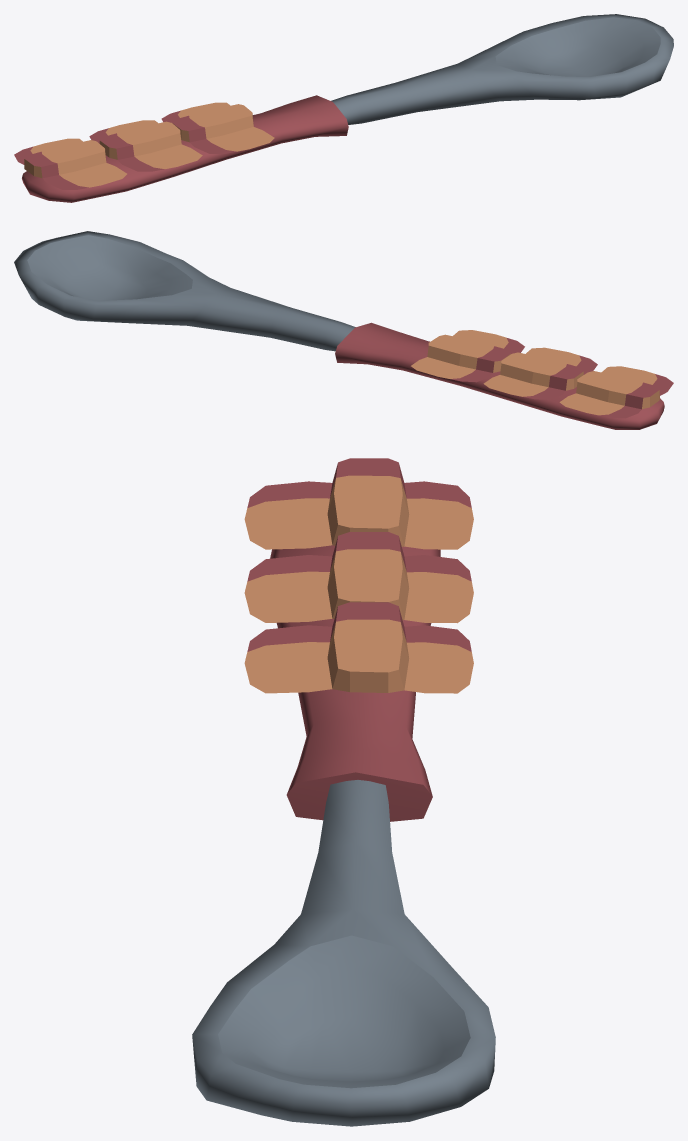
Rendered from SM_Spoon.fbx.
3 renders of one model, top to bottom at view 1: azimuth 30°, elevation 25°; view 2: azimuth 150°, elevation 25°; view 3: azimuth 270°, elevation 25°, orthographic. The views are drawn at different scales.
Visible parts, largest first — view 1: Plane.030, Plane.031, Plane.013, Plane.021, Plane.022, Plane.023, Plane.032, Plane.033; view 2: Plane.030, Plane.031, Plane.013, Plane.021, Plane.022, Plane.023, Plane.032, Plane.033; view 3: Plane.030, Plane.031, Plane.022, Plane.013, Plane.021, Plane.023, Plane.033, Plane.032.
Part boxes in pixels (x1=…): Plane.030: x1=331, y1=14, x2=673, y2=124; Plane.031: x1=22, y1=95, x2=348, y2=202; Plane.013: x1=24, y1=138, x2=126, y2=187; Plane.021: x1=99, y1=120, x2=202, y2=168; Plane.022: x1=173, y1=102, x2=274, y2=151; Plane.023: x1=14, y1=146, x2=88, y2=189; Plane.032: x1=89, y1=128, x2=164, y2=171; Plane.033: x1=161, y1=110, x2=235, y2=153; Plane.030: x1=14, y1=231, x2=355, y2=351; Plane.031: x1=335, y1=322, x2=664, y2=429; Plane.013: x1=559, y1=366, x2=659, y2=415; Plane.021: x1=483, y1=347, x2=583, y2=396; Plane.022: x1=411, y1=330, x2=510, y2=378; Plane.023: x1=599, y1=374, x2=673, y2=418; Plane.032: x1=523, y1=355, x2=597, y2=399; Plane.033: x1=450, y1=338, x2=524, y2=382; Plane.030: x1=192, y1=780, x2=495, y2=1126; Plane.031: x1=270, y1=545, x2=440, y2=821; Plane.022: x1=244, y1=619, x2=473, y2=693; Plane.013: x1=244, y1=475, x2=473, y2=549; Plane.021: x1=244, y1=549, x2=473, y2=623; Plane.023: x1=247, y1=458, x2=471, y2=507; Plane.033: x1=247, y1=602, x2=471, y2=651; Plane.032: x1=247, y1=532, x2=471, y2=581.
Size of the model in its own units: 38.22 by 3.26 by 7.93.
